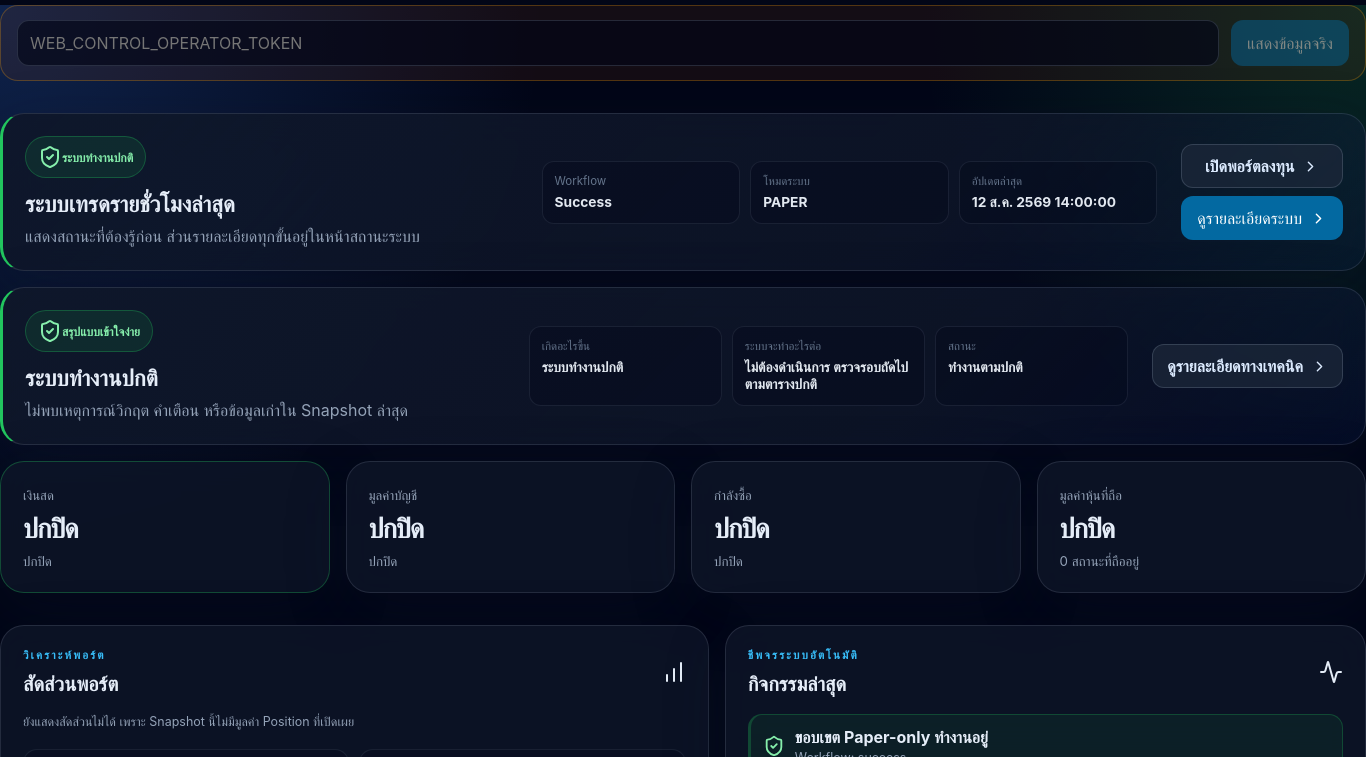
Test case: OverviewPage Owner Secure View › keeps public values masked until authenticated, then can hide them again
expect the element with test id "owner-secure-view" is shown: met, box [0,5,1365,81]
expect the 1st text "ปกปิด" is shown: met, box [23,512,78,545]
Type "owner-secret" into the password field with test id "owner-token-input" at (618, 43), box [17,20,1219,66]
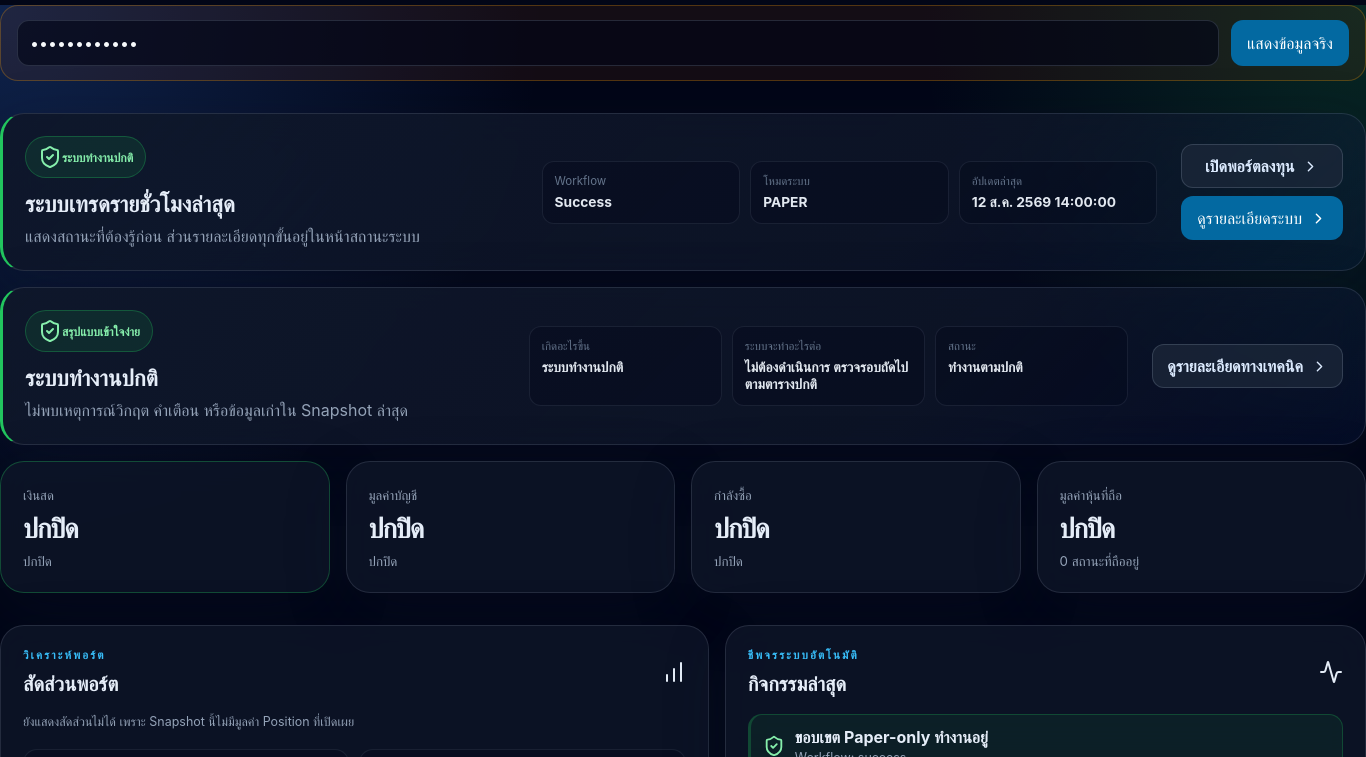
Click the button with test id "owner-connect-button" at (1290, 43), box [1231,20,1349,66]
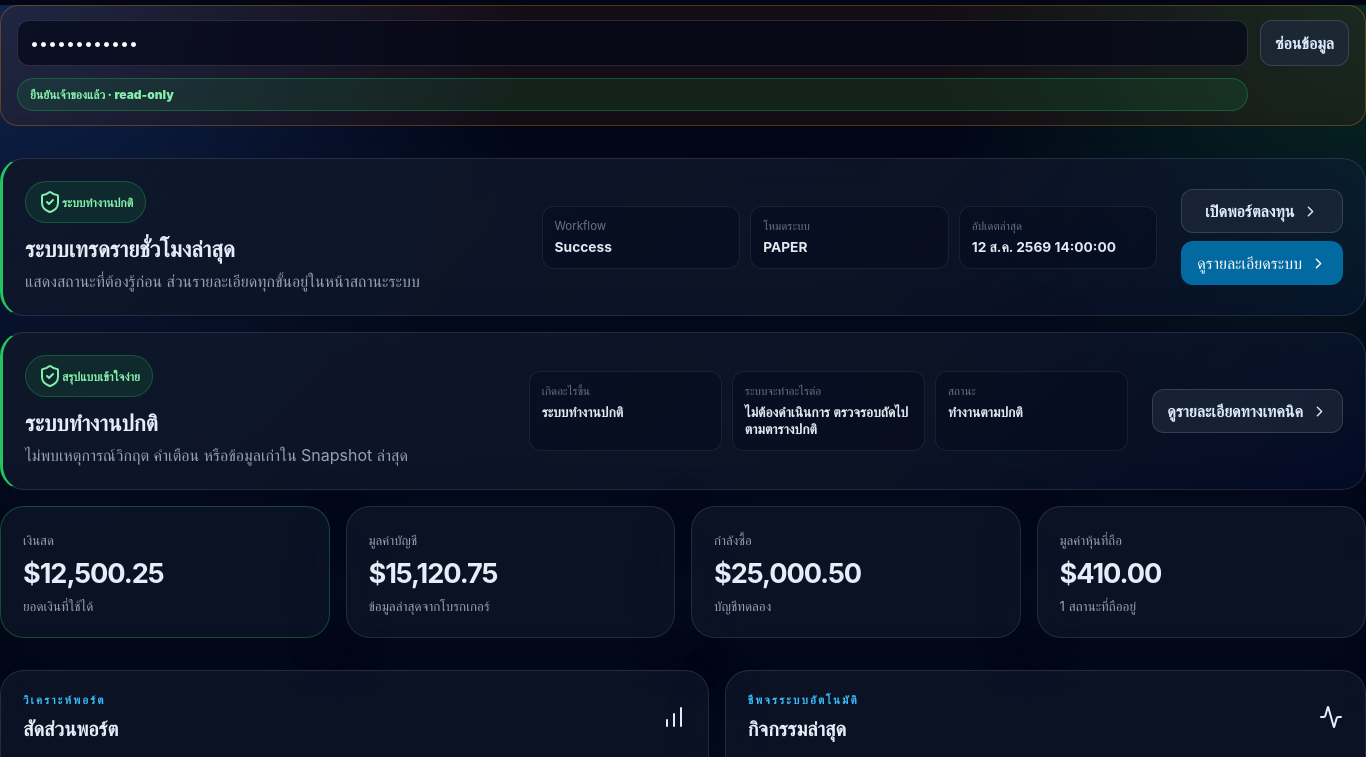
expect the text "$12,500.25" is shown: met, box [23,557,164,590]
expect the message with test id "owner-secure-status" shows "ยืนยันเจ้าของแล้ว": met, box [30,87,174,102]
Click the button with test id "owner-hide-values" at (1304, 43), box [1260,20,1349,66]
(page scrolled)
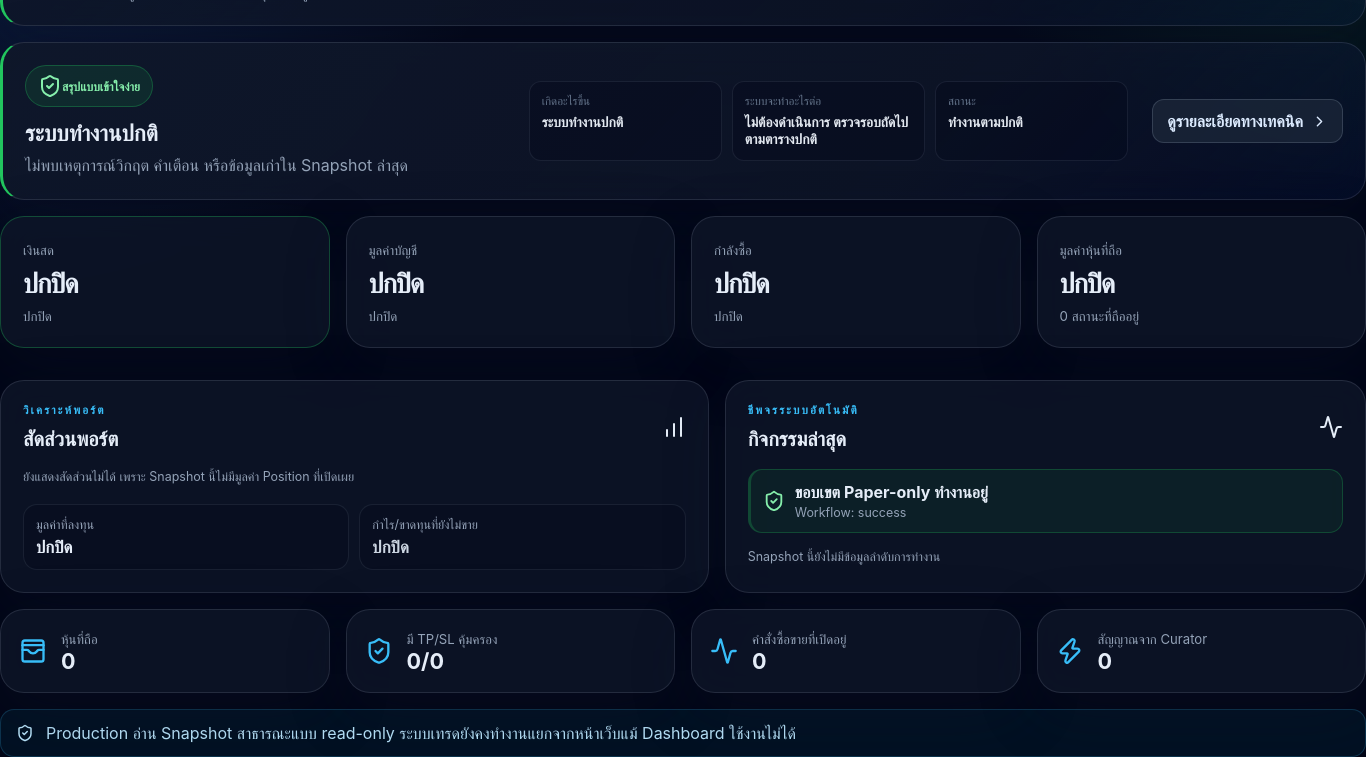
expect the 1st text "ปกปิด" is shown: met, box [23,267,78,300]
expect the element named "Read-only public snapshot mode" is shown: met, box [0,709,1365,756]
